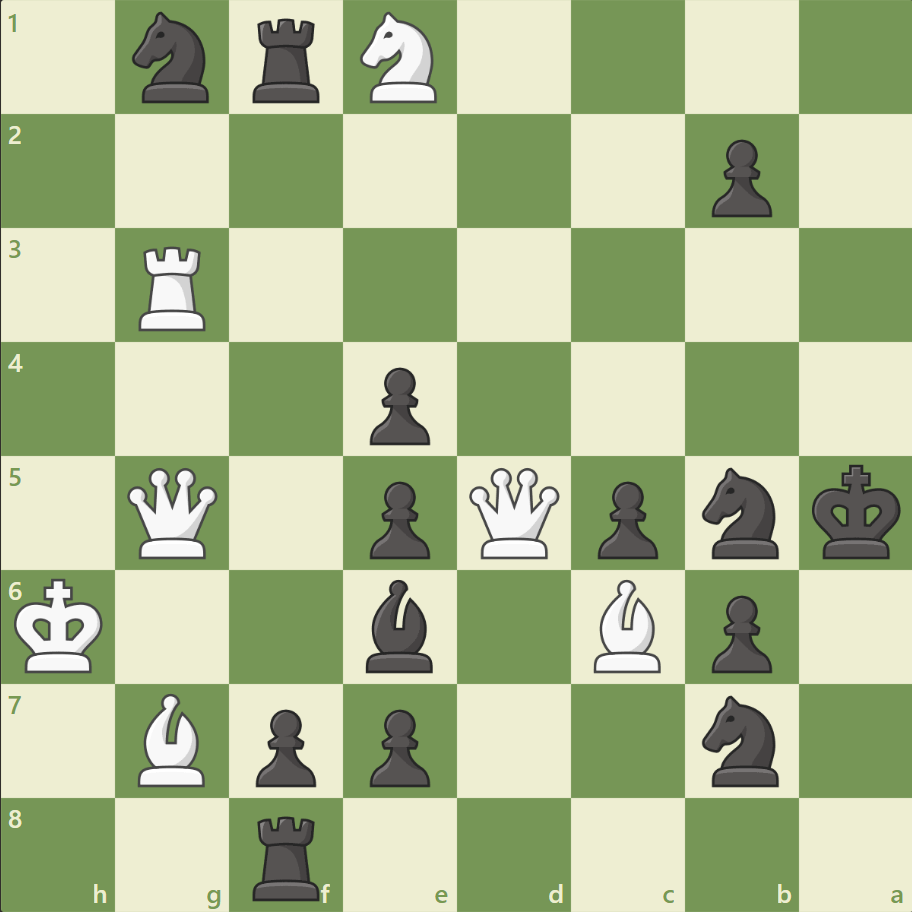B: (131, 687, 215, 790), (585, 574, 669, 676)
K: (11, 571, 111, 679)
N: (351, 7, 449, 110)
Q: (464, 463, 563, 562), (124, 463, 223, 562)
R: (133, 239, 215, 336)
b: (358, 574, 442, 676)
k: (806, 458, 906, 566)
n: (124, 7, 222, 110), (692, 688, 789, 791), (692, 461, 789, 564)
p: (247, 700, 322, 791), (701, 586, 776, 677), (701, 132, 776, 223), (361, 700, 435, 791), (588, 473, 662, 564), (361, 473, 435, 564), (361, 359, 435, 450)
r: (246, 806, 329, 904), (246, 12, 329, 109)
